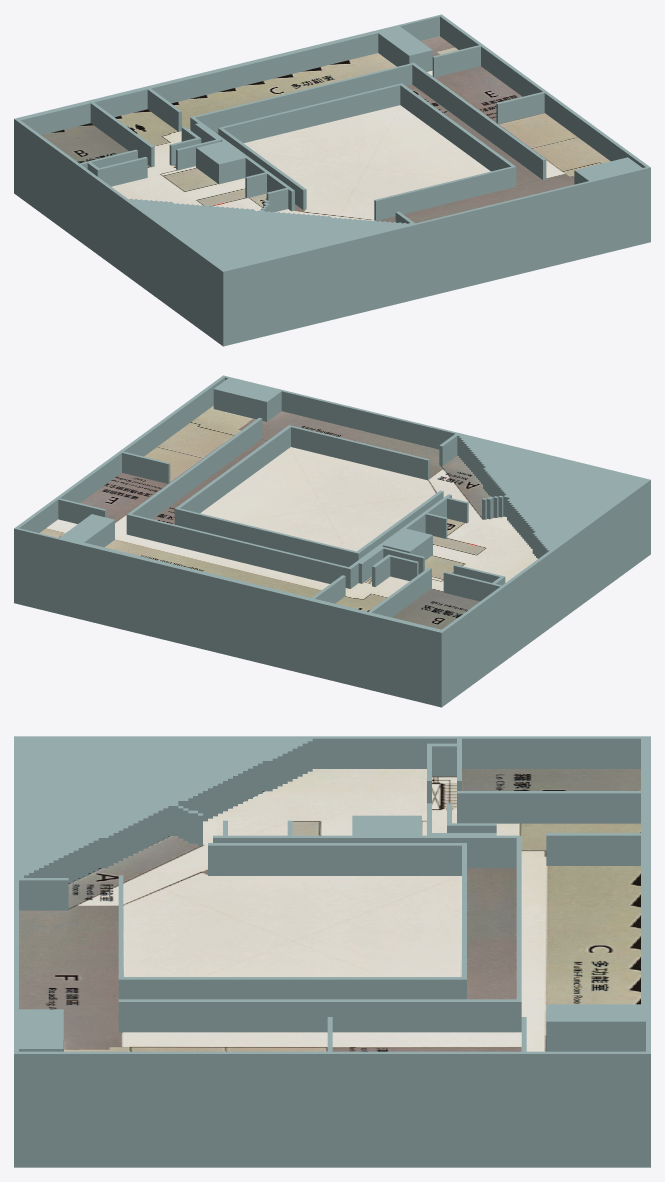
The model's file is Dah-Hsian-Library-7F-cube.glb.
3 views of the same model, one above another, from view 1: azimuth 30°, elevation 25°; view 2: azimuth 150°, elevation 25°; view 3: azimuth 270°, elevation 25° (orthographic). The views are drawn at different scales.
Visible parts, largest first — view 1: Cube, Plane; view 2: Cube, Plane; view 3: Cube, Plane.
Boxes of the visible parts, bbox=[...] form: Cube: bbox=[14, 14, 650, 346]; Plane: bbox=[41, 36, 610, 223]; Cube: bbox=[14, 375, 650, 707]; Plane: bbox=[39, 406, 537, 629]; Cube: bbox=[14, 736, 650, 1167]; Plane: bbox=[19, 769, 640, 1051].
Bounding box in the file's own units: 18 × 3 × 15.25.
2 materials, 1 textured.
